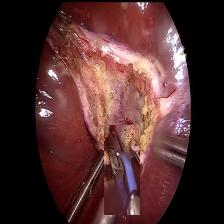Bipolar: (103, 124, 139, 214)
Grasper: (67, 133, 113, 211), (148, 120, 188, 170)
